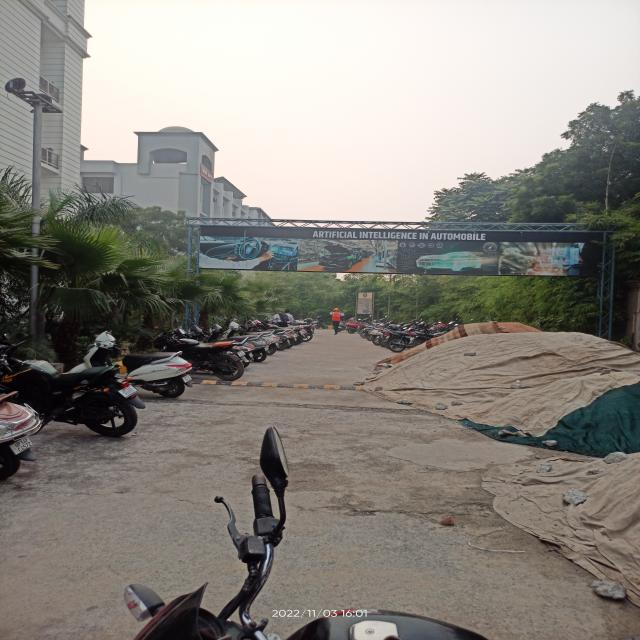safe: (330, 308, 344, 335)
unsafe: (274, 312, 288, 327), (284, 310, 293, 325)
